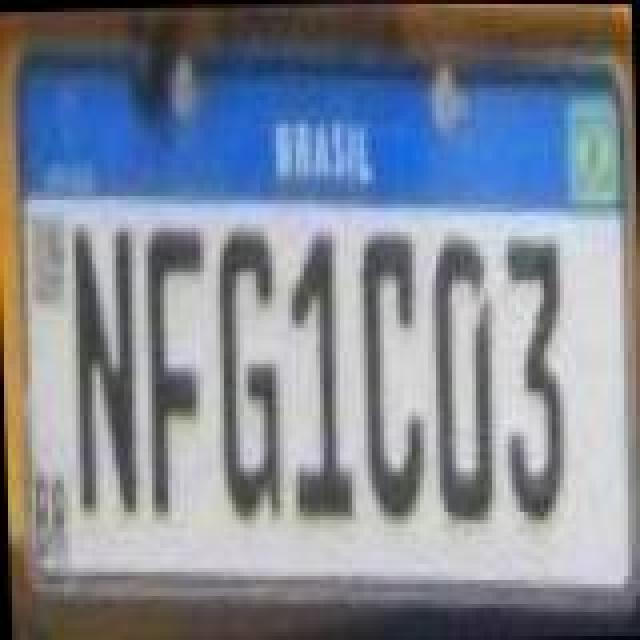1: (284, 230, 360, 526)
3: (496, 224, 572, 520)
C: (356, 228, 432, 524)
D: (420, 230, 496, 526)
F: (140, 220, 216, 516)
G: (212, 226, 288, 526)
N: (66, 222, 138, 514)
